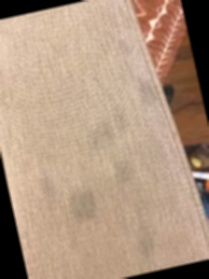oil: (87, 122, 139, 189), (58, 182, 98, 224), (132, 80, 161, 107)
